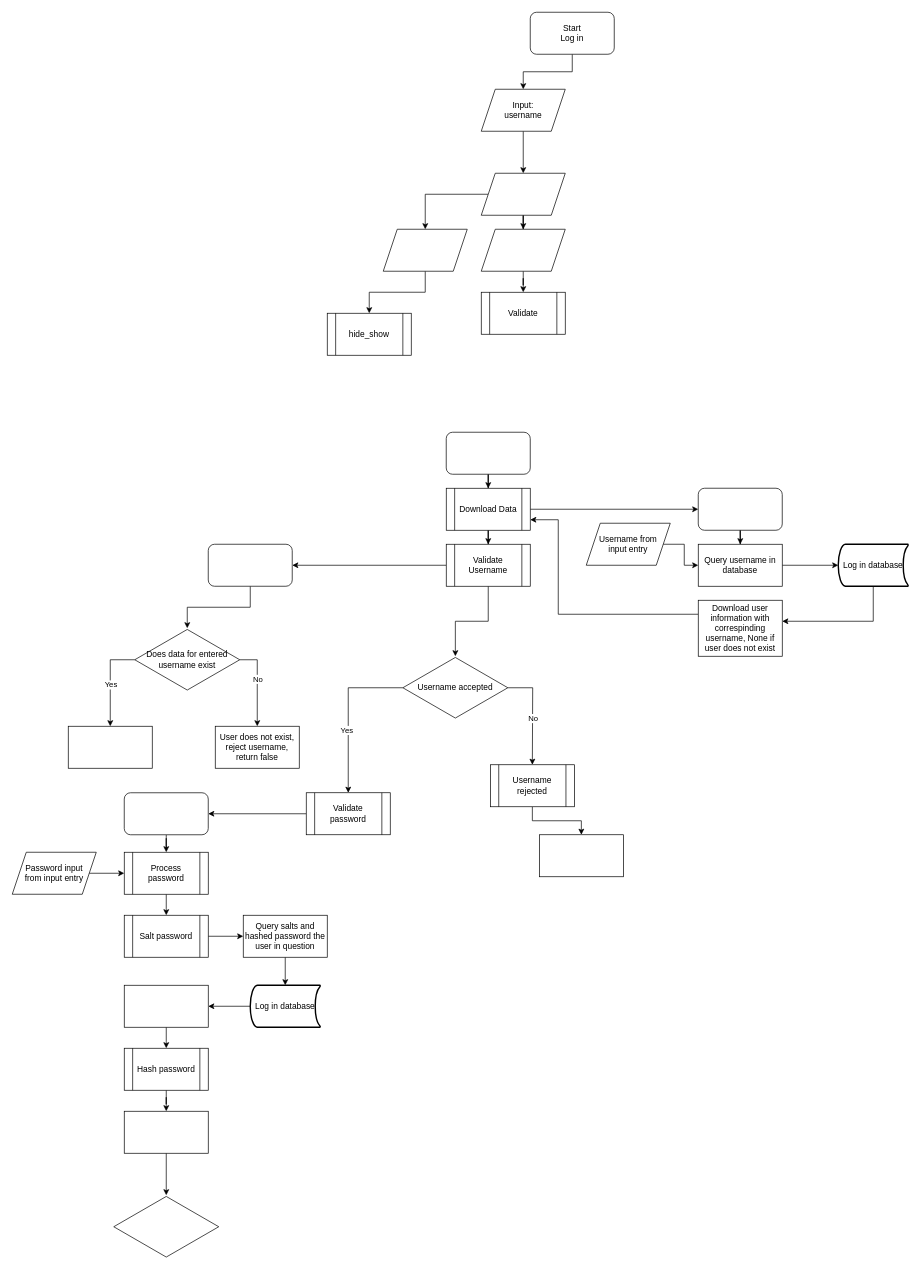
This 921x1271 diagram has some shape labels left out. The shapes that lost their labels are listed below. From the top down, each one's centre as x and y in pixels, then its label:
the point at 523,194: Input: password
the point at 425,250: Button press: Hide and show password
the point at 523,250: Input: Enter
the point at 488,453: Start Validate
the point at 740,509: Start Download Data
the point at 250,565: Start Validate Username
the point at 110,747: User exists, accept username, return true
the point at 166,813: Start Validate Password
the point at 581,855: Clear entries
the point at 166,1006: Concatenate salts to either end of the inputted password
the point at 166,1132: Hash password using haslib library
